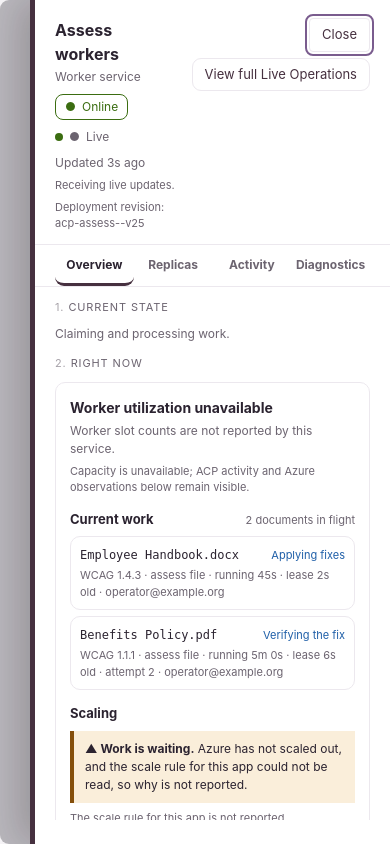
Test: What the worker service is doing › keeps durable work and replica attribution visible when slot capacity is unavailable
expect the element named "Worker slot utilization" shows "Worker utilization unavailable": met, box [70,398,273,416]
expect the element named "Worker slot utilization" shows "Employee Handbook.docx": met, box [80,548,239,562]
Click the tab "Replicas": (173, 265) [134,244,213,286]
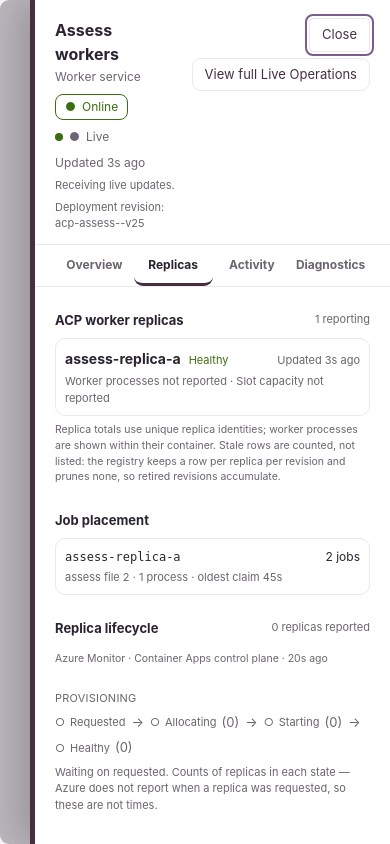
expect the panel shows "assess-replica-a": met, box [65,350,181,367]
expect the panel shows "2 jobs": met, box [55,286,370,820]
expect the panel shows "Slot capacity not reported": met, box [65,374,324,404]
